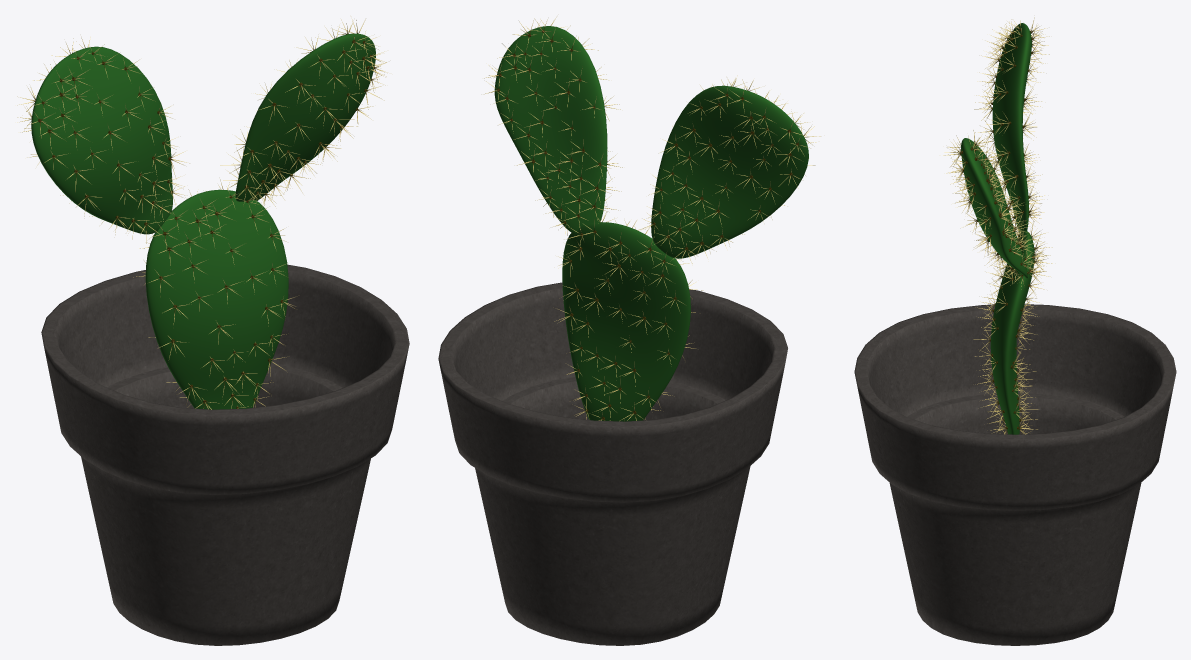
Rendered from OPUNTIA_MICRODASYS_CEMENT_POT.glb.
The picture shows the model from 3 angles, left to right: view 1: azimuth 30°, elevation 25°; view 2: azimuth 150°, elevation 25°; view 3: azimuth 270°, elevation 25°; orthographic projection. The views are drawn at different scales.
Parts seen in each view (by area): view 1: Cube, Pear Cactus1, Pear Cactus4, Pear Cactus3; view 2: Cube, Pear Cactus1, Pear Cactus4, Pear Cactus3; view 3: Cube, Pear Cactus4, Pear Cactus1, Pear Cactus3.
Boxes of the visible parts, x1,y1,x2,y2 form: Cube: (41,264,409,645); Pear Cactus1: (145,189,288,409); Pear Cactus4: (31,46,172,234); Pear Cactus3: (235,33,375,201); Cube: (438,282,787,645); Pear Cactus1: (562,222,690,421); Pear Cactus4: (651,85,808,258); Pear Cactus3: (494,26,607,234); Cube: (854,304,1176,645); Pear Cactus4: (992,23,1031,233); Pear Cactus1: (990,230,1034,434); Pear Cactus3: (961,138,1027,278).
Size of the model in its own units: 1.2 by 1.83 by 1.02.
4 materials, 2 textured.
